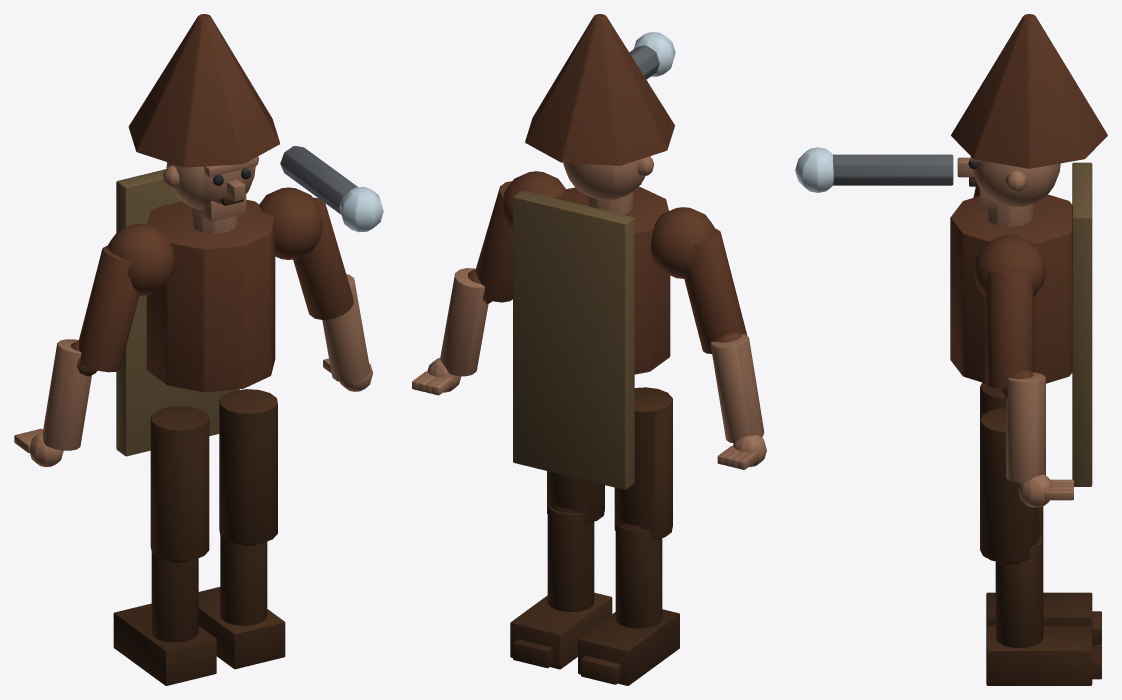
Rendered from unit_royal_crown_eye.fbx.
3 views of the same model, side by side, from view 1: azimuth 30°, elevation 25°; view 2: azimuth 150°, elevation 25°; view 3: azimuth 270°, elevation 25° (orthographic).
Visible parts, largest first — view 1: unit_royal_crown_eye; view 2: unit_royal_crown_eye; view 3: unit_royal_crown_eye.
Part boxes in pixels (<box>): unit_royal_crown_eye: <box>14,14,383,685</box>; unit_royal_crown_eye: <box>412,14,766,685</box>; unit_royal_crown_eye: <box>795,14,1107,685</box>.
Bounding box in the file's own units: 1.18 × 2.14 × 0.9463.
